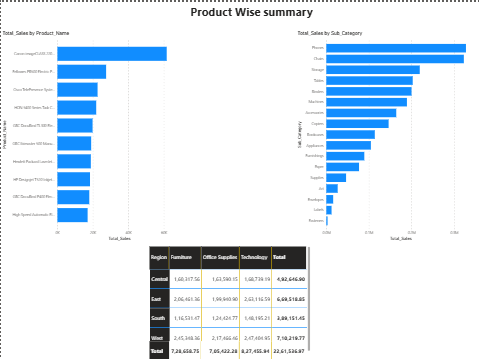

The dashboard page shown, as its layout file describes it:
{"tool":"powerbi","page":{"name":"Product_Performance","canvas":[1600,1200],"ordinal":1},"visuals":[{"type":"clusteredBarChart","fields":{"Category":["orders.Product_Name"],"Y":["orders.Total_Sales"]},"box":[0,92.7,617.1,707.3],"z":0},{"type":"clusteredBarChart","fields":{"Category":["orders.Sub_Category"],"Y":["orders.Total_Sales"]},"box":[982.9,92.7,617.1,707.3],"z":1000},{"type":"pivotTable","fields":{"Rows":["orders.Region"],"Values":["orders.Total_Sales"],"Columns":["orders.Category"]},"box":[490.2,809.8,546.3,390.2],"z":2000},{"type":"textbox","box":[0,810,490,390],"z":3000},{"type":"textbox","box":[552,0,564,66],"z":4000}]}

Visuals, with their boxes in screenshot pixels (x1, y1, x2, y2), scaled from the page's 1600x1200 canvas onto the 479x359 screenshot:
clusteredBarChart - orders.Product_Name x orders.Total_Sales: [0, 28, 185, 239]
clusteredBarChart - orders.Sub_Category x orders.Total_Sales: [294, 28, 478, 239]
pivotTable - orders.Region x orders.Total_Sales: [147, 242, 310, 358]
textbox: [0, 242, 147, 358]
textbox: [165, 0, 334, 20]
